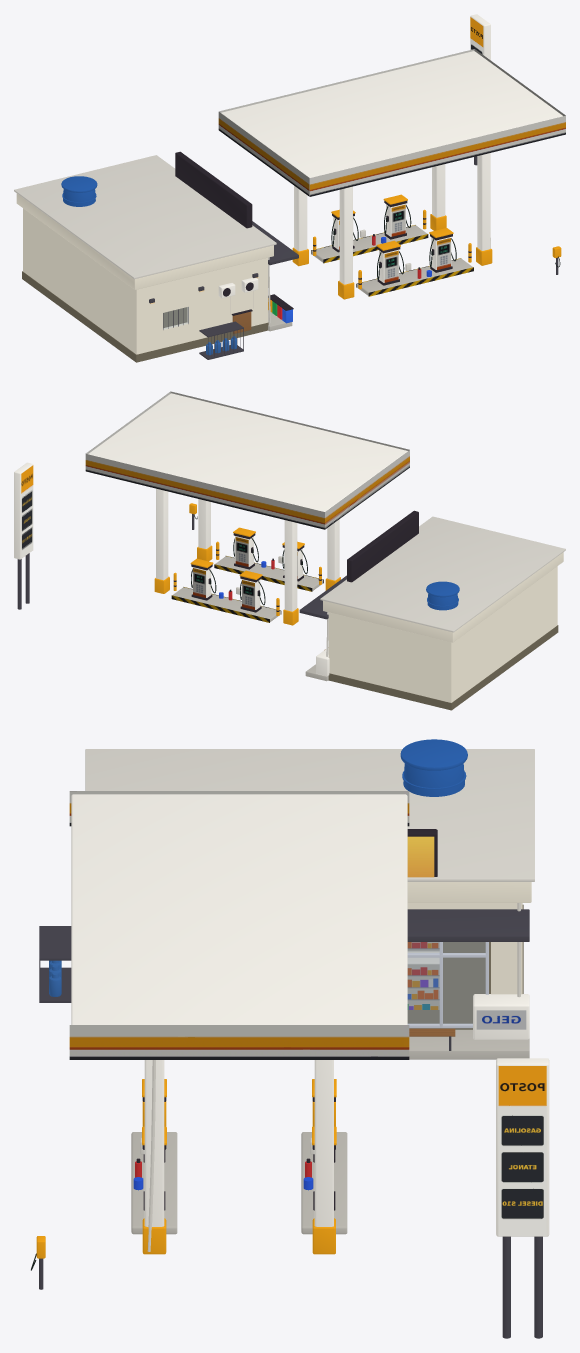
File: posto.glb
The picture shows the model from 3 angles, top to bottom: view 1: azimuth 30°, elevation 25°; view 2: azimuth 150°, elevation 25°; view 3: azimuth 270°, elevation 25°; orthographic projection. The views are drawn at different scales.
Visible parts, largest first — view 1: posto_branco, posto_cinza_claro, posto_faixa_cobertura, posto_escuro, posto_bomba_frente, posto_zebrada; view 2: posto_branco, posto_cinza_claro, posto_faixa_cobertura, posto_escuro, posto_bomba_frente, posto_luz_totem, posto_zebrada; view 3: posto_branco, posto_cinza_claro, posto_faixa_cobertura, posto_luz_totem, posto_vidro_loja, posto_produtos, posto_luz_letreiro, posto_gelo, posto_escuro.
Boxes of the visible parts, x1,y1,x2,y2 form: posto_branco: [16, 14, 562, 362]; posto_cinza_claro: [14, 155, 490, 323]; posto_faixa_cobertura: [218, 49, 565, 196]; posto_escuro: [175, 151, 560, 315]; posto_bomba_frente: [339, 204, 450, 282]; posto_zebrada: [311, 225, 473, 296]; posto_branco: [14, 393, 563, 710]; posto_cinza_claro: [236, 516, 565, 656]; posto_faixa_cobertura: [85, 391, 409, 529]; posto_escuro: [173, 510, 418, 612]; posto_bomba_frente: [193, 537, 297, 609]; posto_luz_totem: [21, 465, 33, 558]; posto_zebrada: [171, 556, 323, 622]; posto_branco: [36, 739, 549, 1338]; posto_cinza_claro: [85, 749, 534, 1251]; posto_faixa_cobertura: [69, 791, 409, 1059]; posto_luz_totem: [498, 1066, 546, 1235]; posto_vidro_loja: [408, 942, 485, 1023]; posto_produtos: [407, 942, 439, 1009]; posto_luz_letreiro: [407, 836, 434, 877]; posto_gelo: [476, 1010, 526, 1029]; posto_escuro: [31, 829, 437, 1270].
Size of the model in its own units: 28.48 by 8.7 by 14.64.
16 materials, 16 textured.
